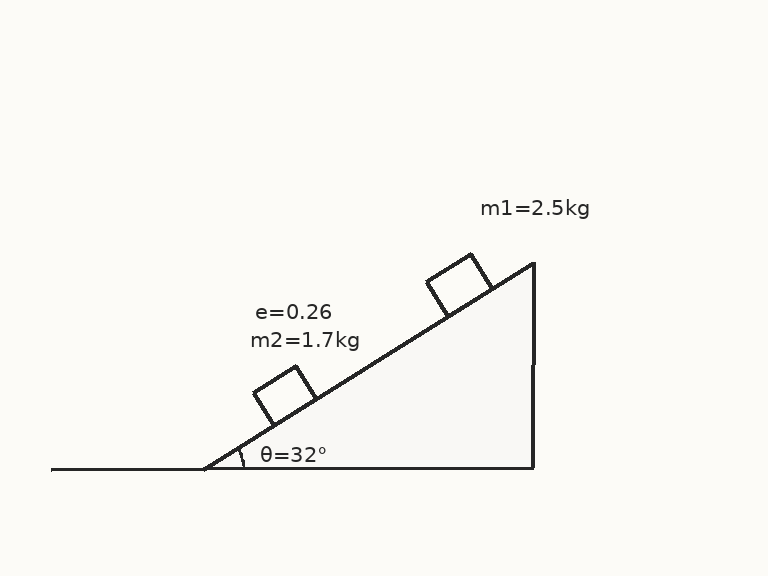block: (424, 252, 494, 318), (251, 364, 318, 426)
ramp: (201, 260, 535, 470)
